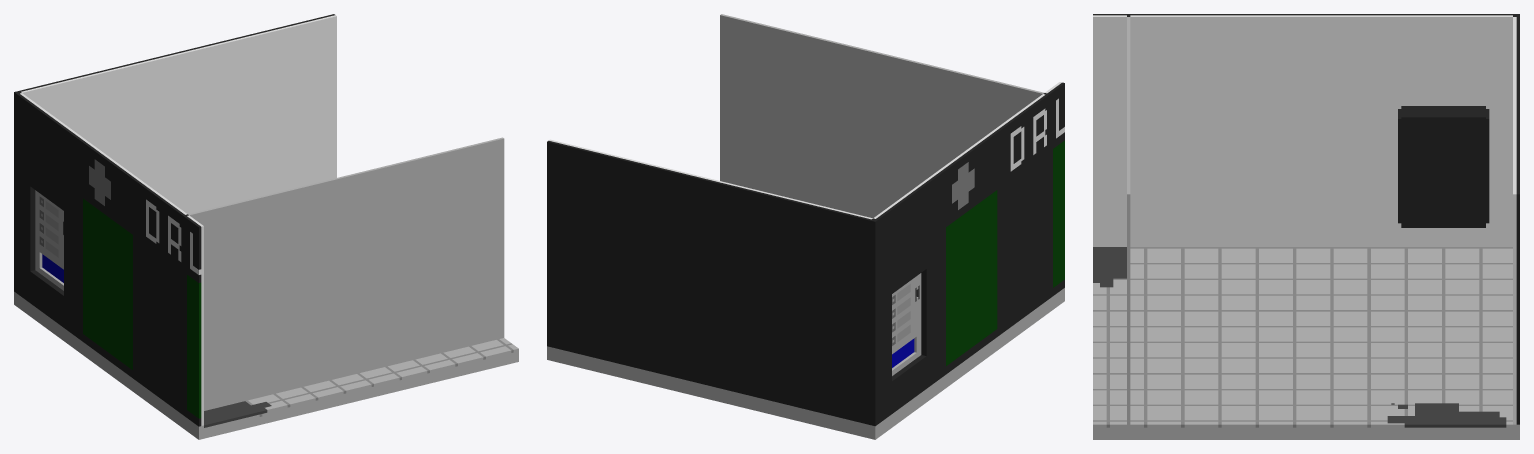
File: 2x2 first (2)-0.obj
3 renders of one model, left to right at view 1: azimuth 30°, elevation 25°; view 2: azimuth 150°, elevation 25°; view 3: azimuth 270°, elevation 25°, orthographic. The views are drawn at different scales.
Visible parts, largest first — view 1: 2x2 first (2)-0; view 2: 2x2 first (2)-0; view 3: 2x2 first (2)-0.
Boxes of the visible parts, bbox=[...] form: 2x2 first (2)-0: bbox=[14, 14, 518, 439]; 2x2 first (2)-0: bbox=[547, 14, 1064, 439]; 2x2 first (2)-0: bbox=[1093, 14, 1519, 439].
Size of the model in its own units: 126 by 80 by 126.
1 material, 1 textured.
